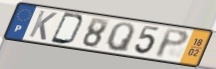5: (131, 25, 163, 56)
8: (81, 17, 109, 49)
D: (49, 11, 87, 46)
K: (27, 9, 59, 42)
P: (154, 28, 190, 60)
Q: (104, 22, 136, 54)
